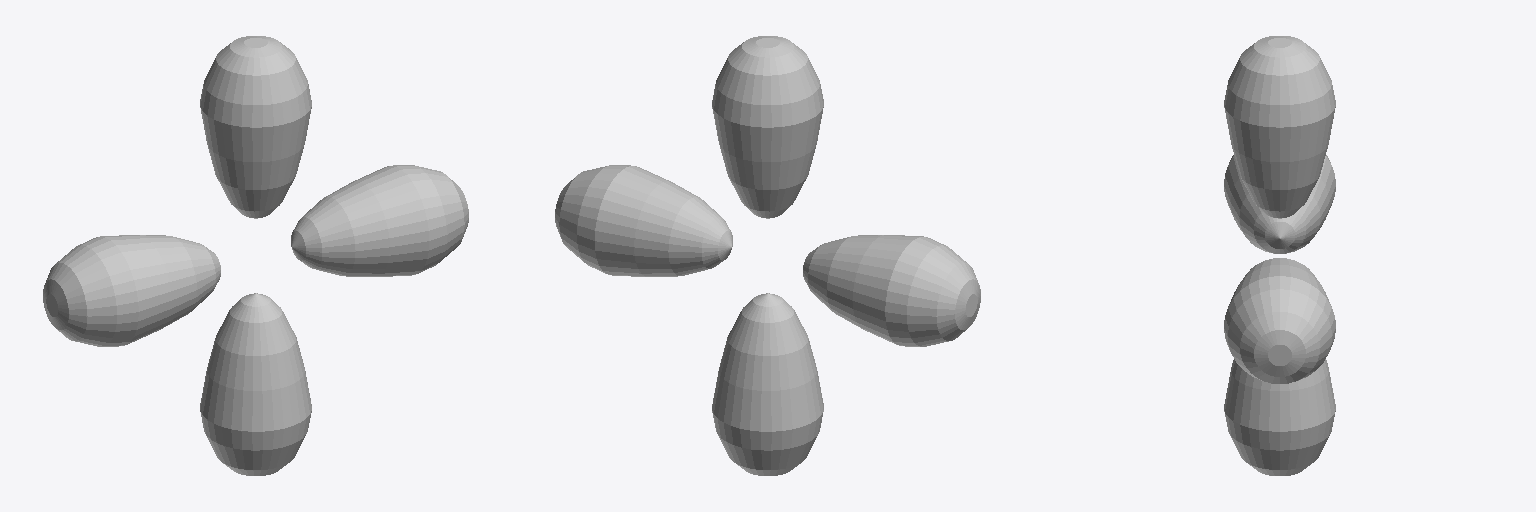
File: d orbital normal.obj
3 views of the same model, side by side, from view 1: azimuth 30°, elevation 25°; view 2: azimuth 150°, elevation 25°; view 3: azimuth 270°, elevation 25° (orthographic).
Parts seen in each view (by area): view 1: Cylinder.002; view 2: Cylinder.002; view 3: Cylinder.002.
Part boxes in pixels (left/top/right/bottom): Cylinder.002: left=43, top=36, right=468, bottom=475; Cylinder.002: left=555, top=36, right=980, bottom=475; Cylinder.002: left=1224, top=36, right=1335, bottom=475.
Bounding box in the file's own units: 15.23 × 15.23 × 3.64.